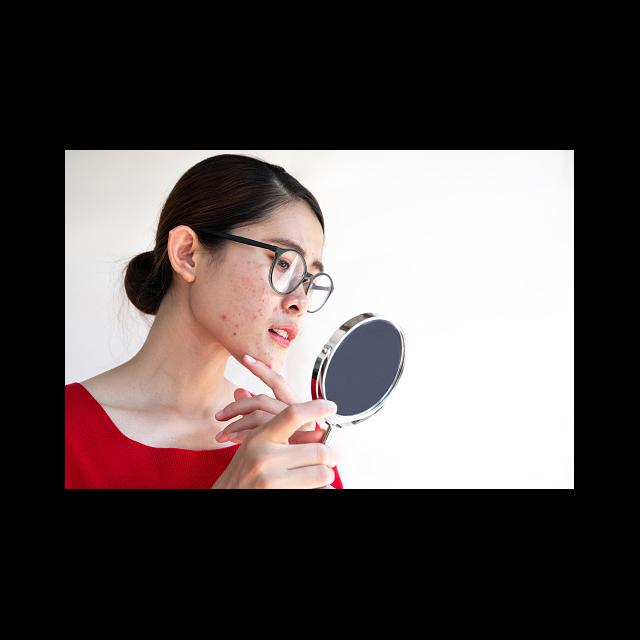female: (164, 172, 342, 345)
